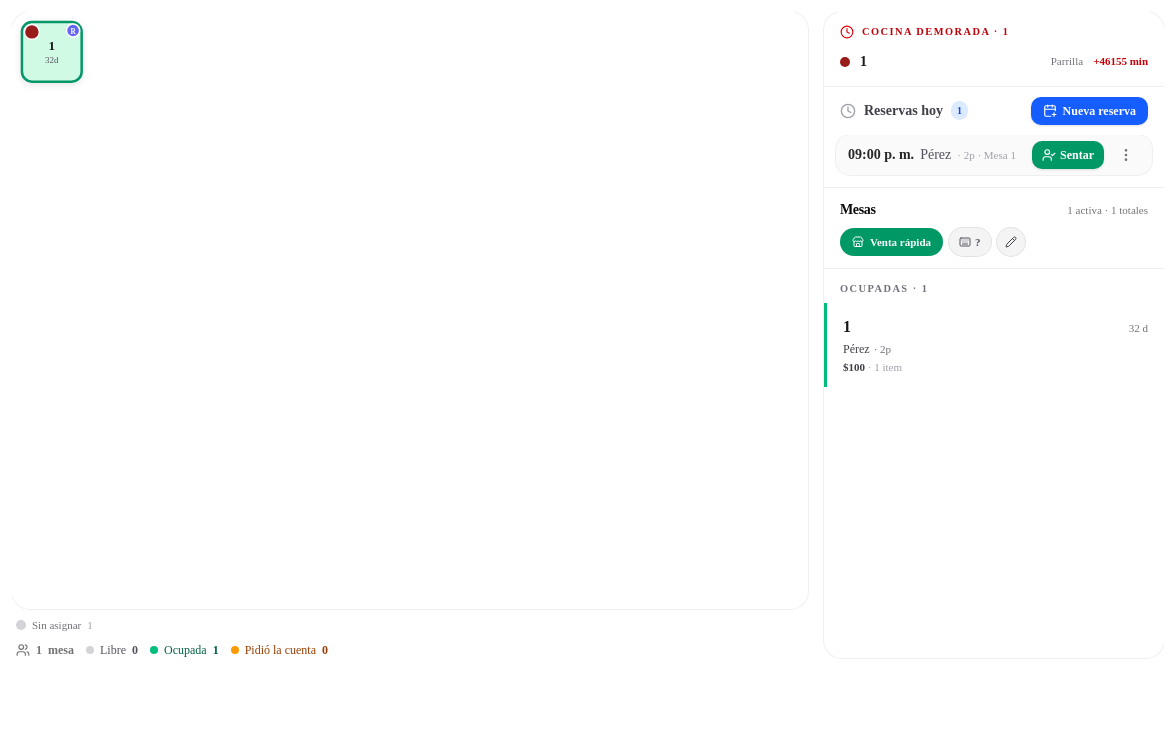
Scenario: SalonDesktop · re-sincronización por refetch (spec 102) › entregar una comanda refleja el cambio sin re-correr la ruta
Click the button "1 Parrilla +46155 min": (1067, 61) [824,46,1164,78]
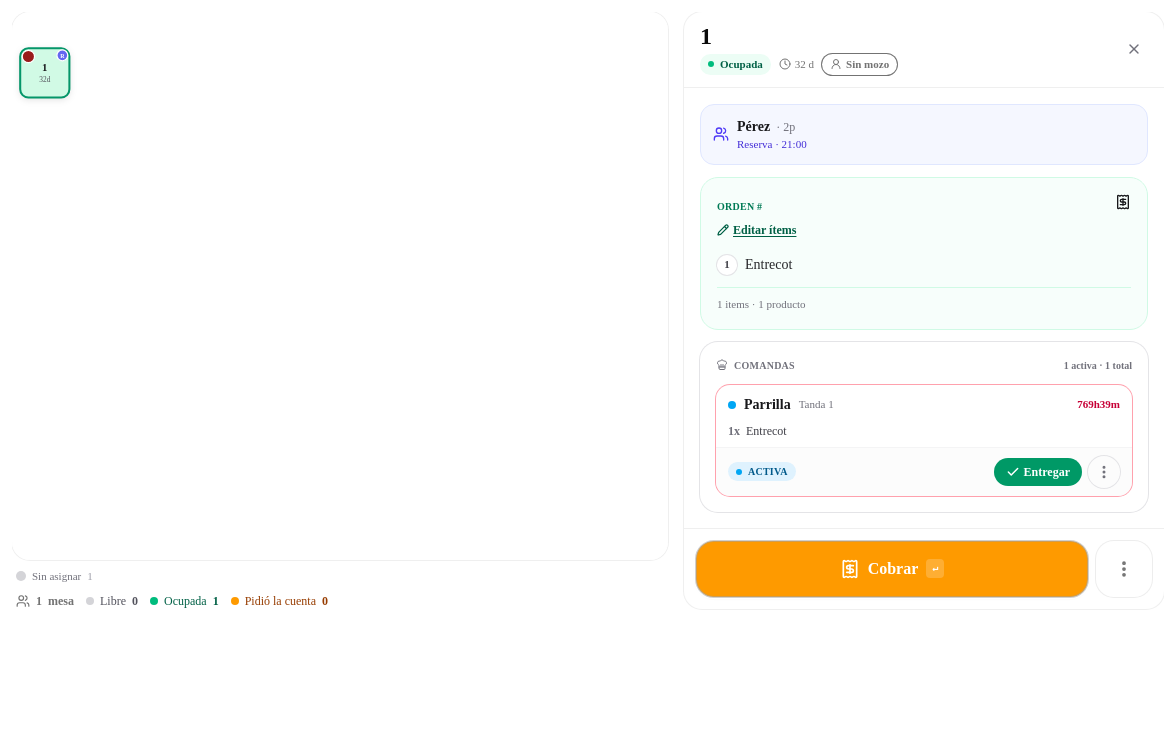
Click the button "Entregar": (1038, 472) [994,458,1082,486]
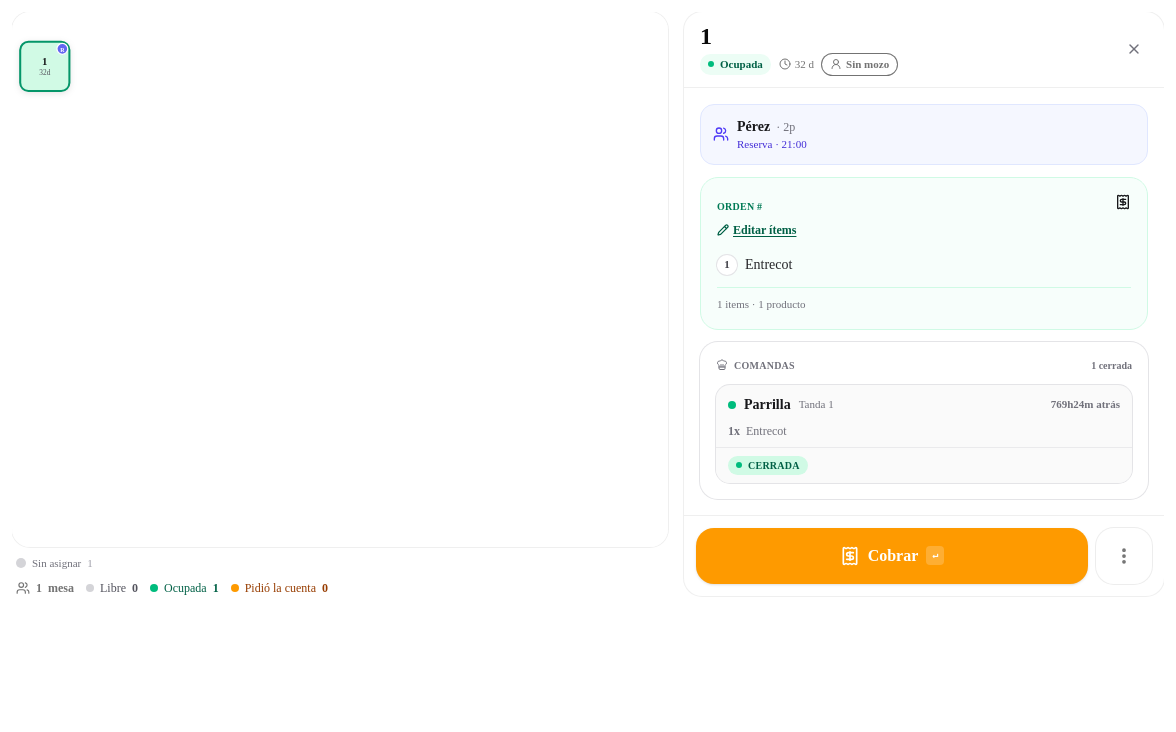
Expected: the button "Entregar" is gone
